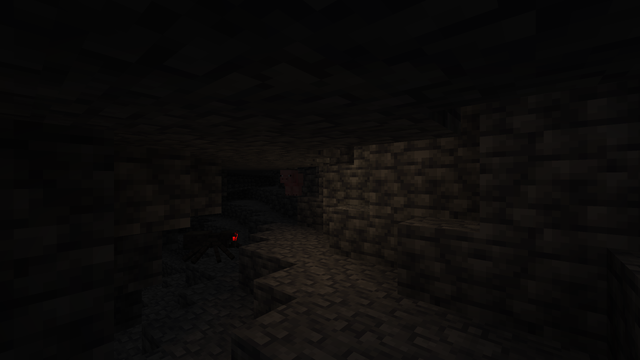araignees: (185, 224, 243, 264)
cochons: (281, 172, 304, 195)
